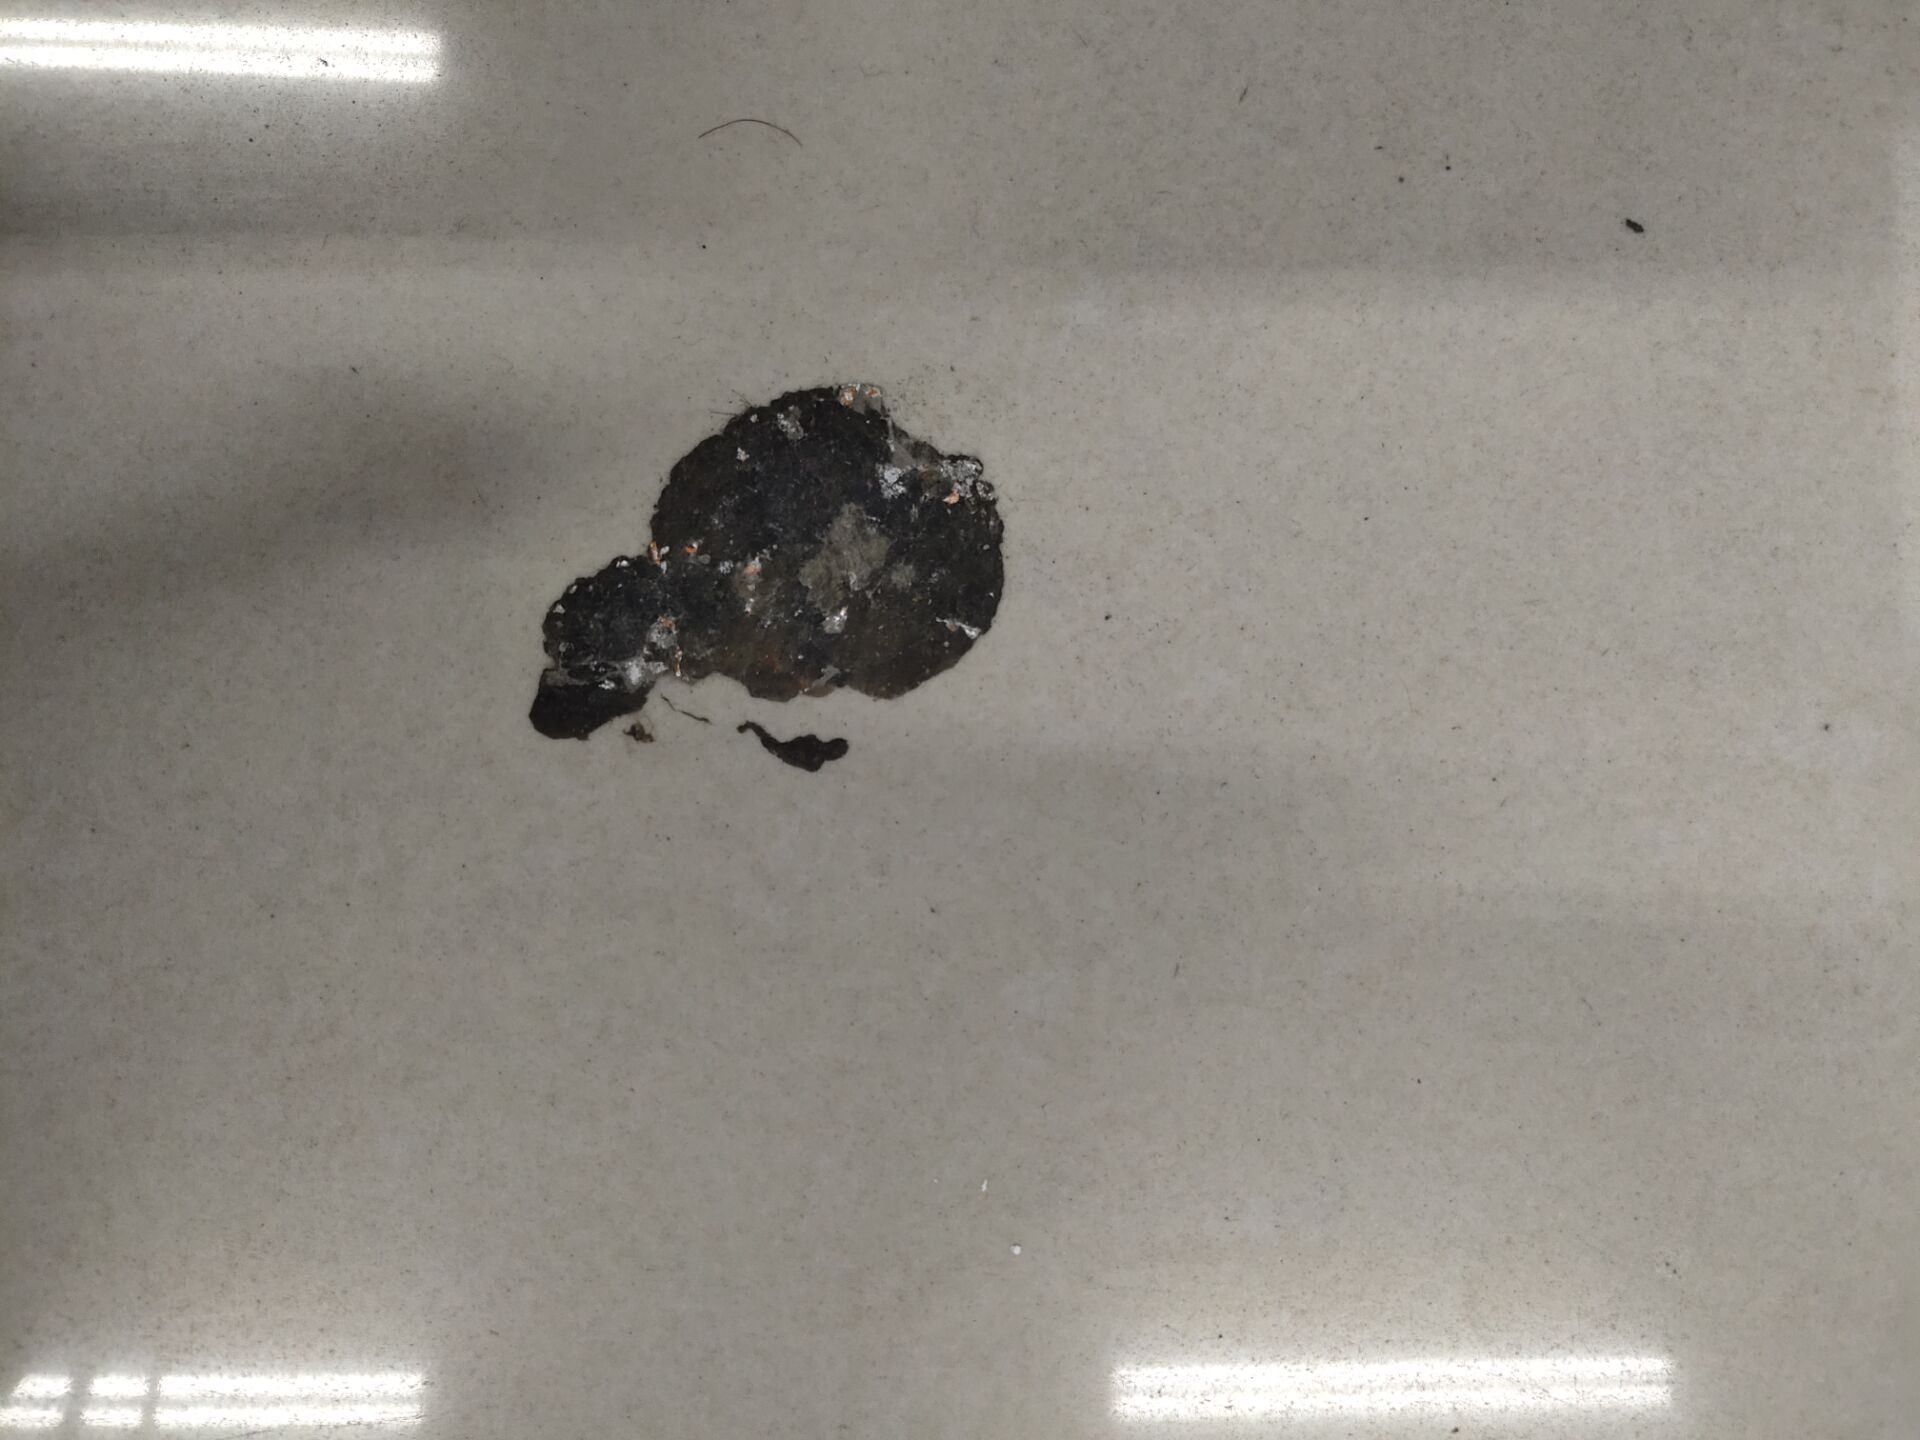grey spot: (531, 384, 1007, 744), (736, 718, 848, 774)
